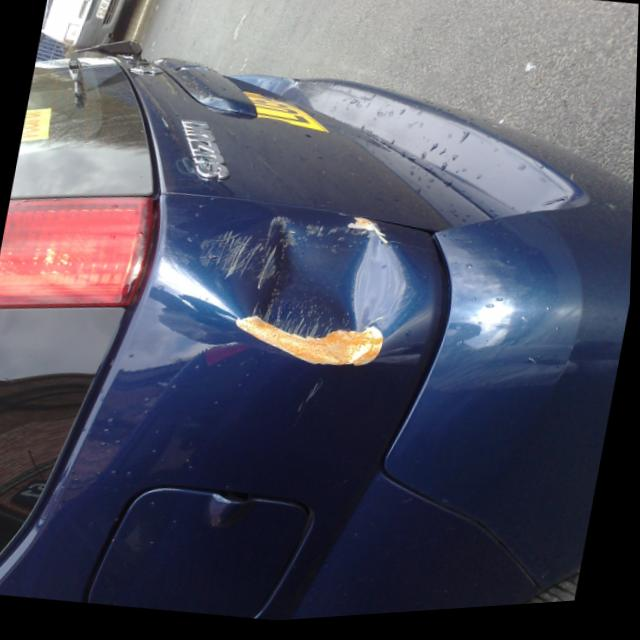Scratch: (197, 222, 391, 293), (228, 321, 393, 379)
